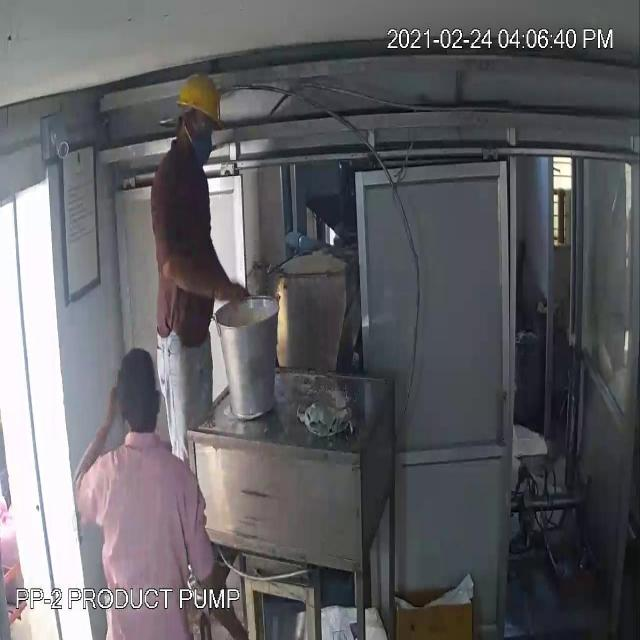hat: (175, 67, 224, 120)
